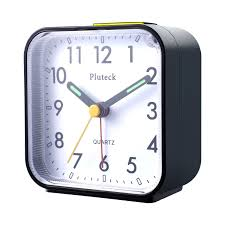alarm_clock: (21, 19, 199, 202), (21, 24, 199, 202)
